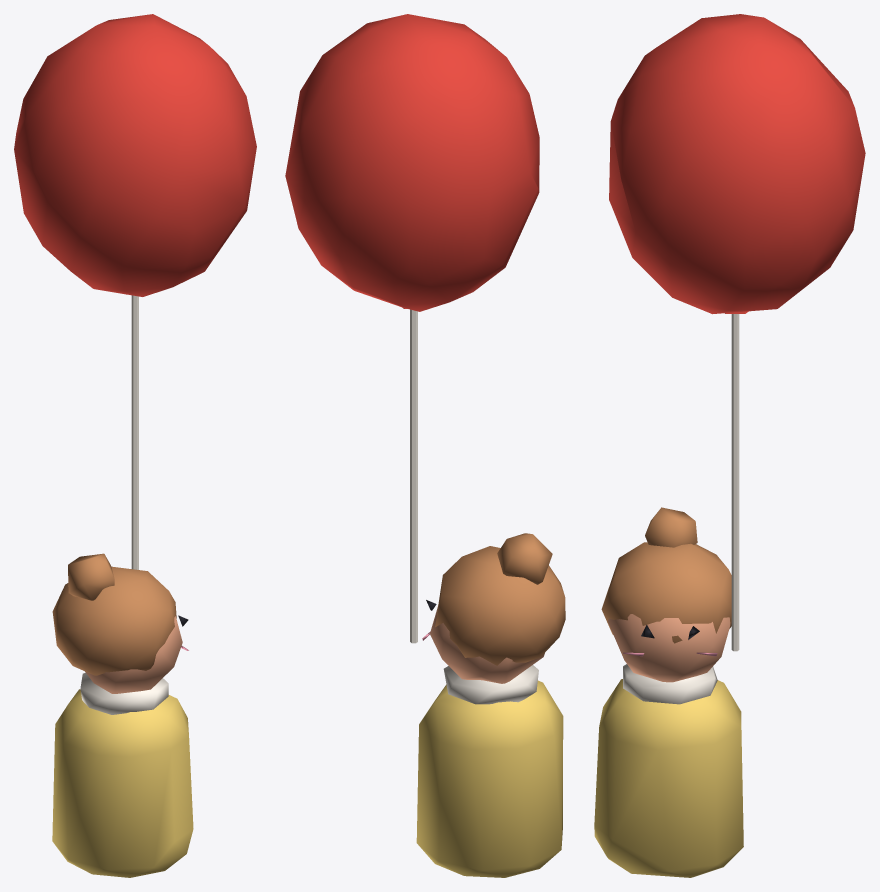
The model's file is peg_d.glb.
3 views of the same model, side by side, from view 1: azimuth 30°, elevation 25°; view 2: azimuth 150°, elevation 25°; view 3: azimuth 270°, elevation 25° (orthographic). The views are drawn at different scales.
Parts seen in each view (by area): view 1: peg_d; view 2: peg_d; view 3: peg_d.
Part boxes in pixels (<box>): peg_d: <box>14,14,256,877</box>; peg_d: <box>285,14,565,877</box>; peg_d: <box>594,14,865,877</box>.
Bounding box in the file's own units: 0.3926 × 1.44 × 0.4157.
1 material, 1 textured.
